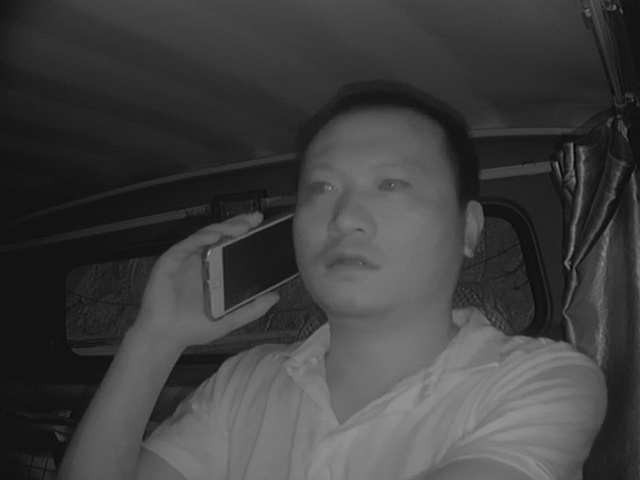hand: (153, 215, 271, 338)
